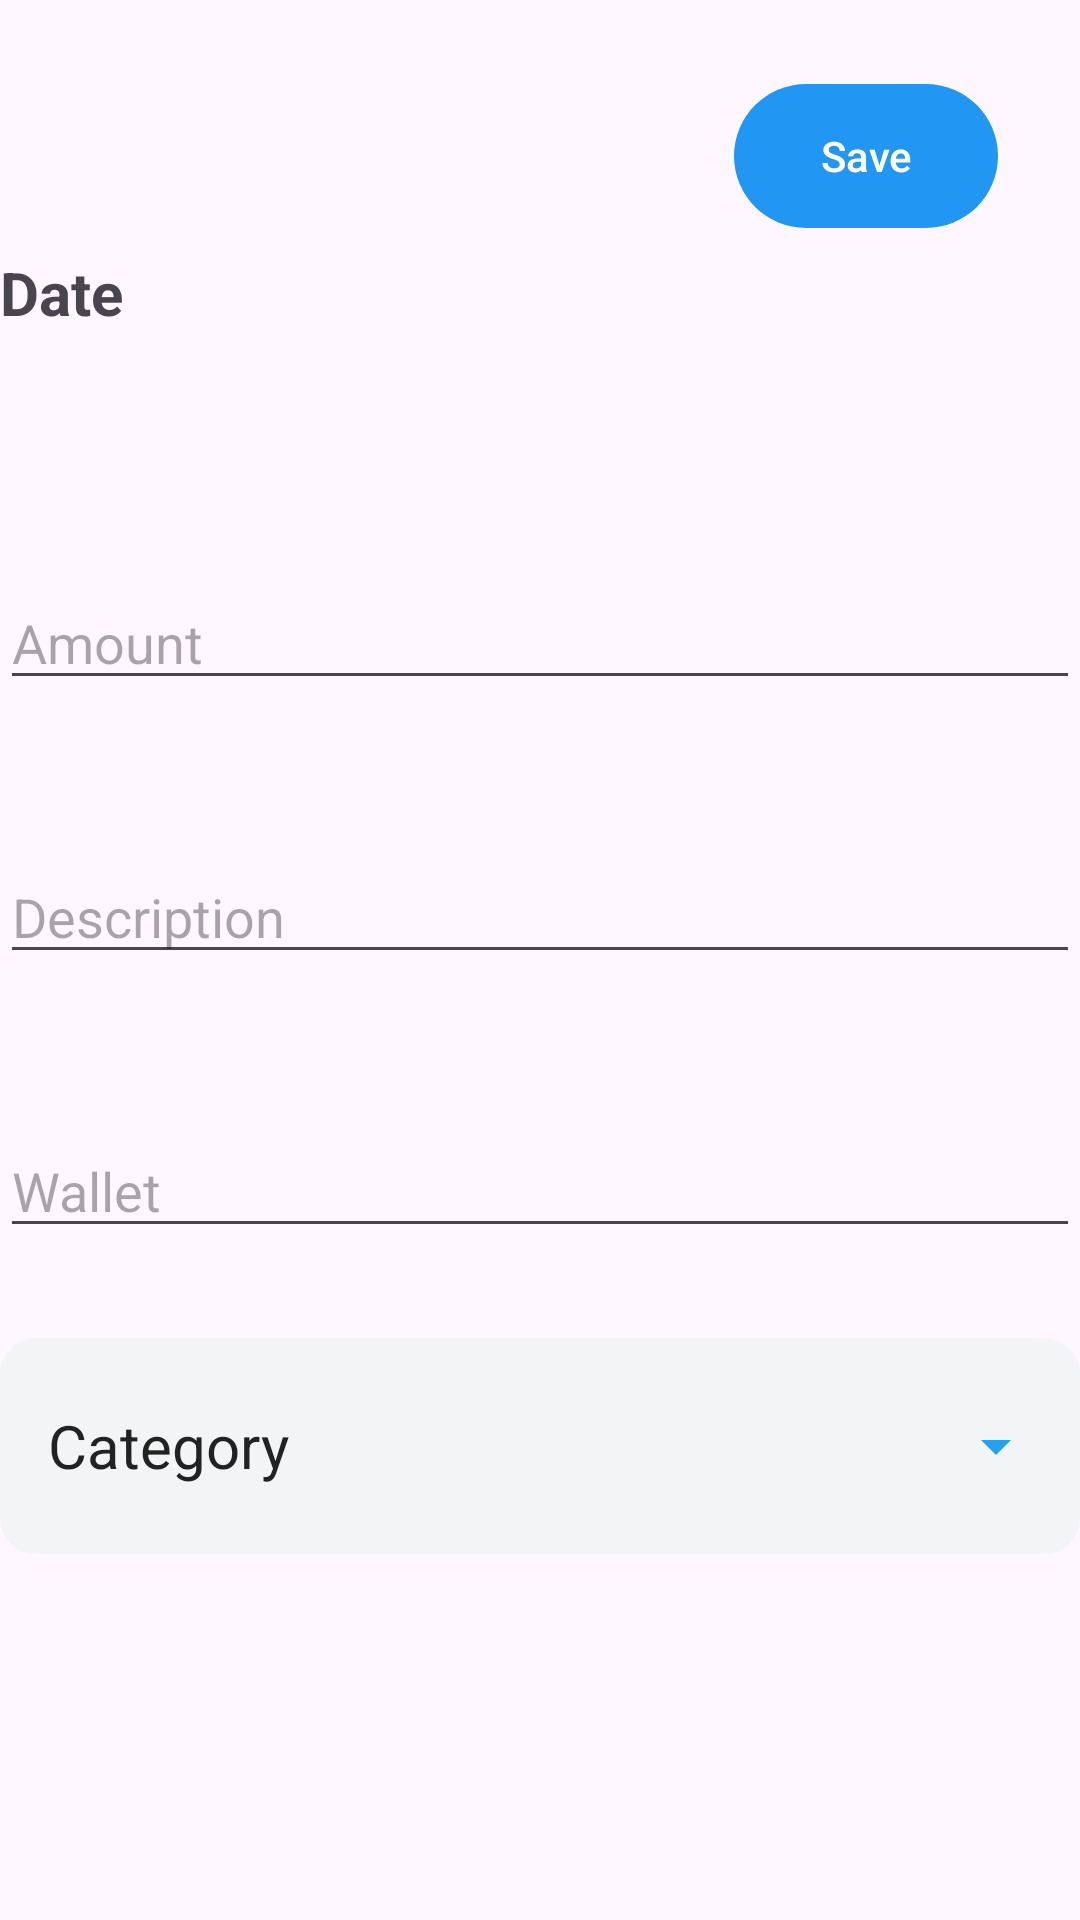

Named icons in this screenshot (1080 × 1920) and their centers, point (x, y):
drop downsvg: point (996, 1447)
